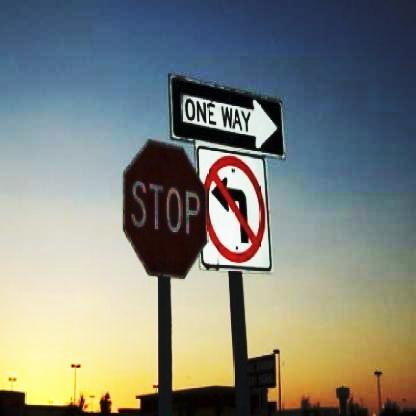Stop Sign: (119, 142, 212, 280)
